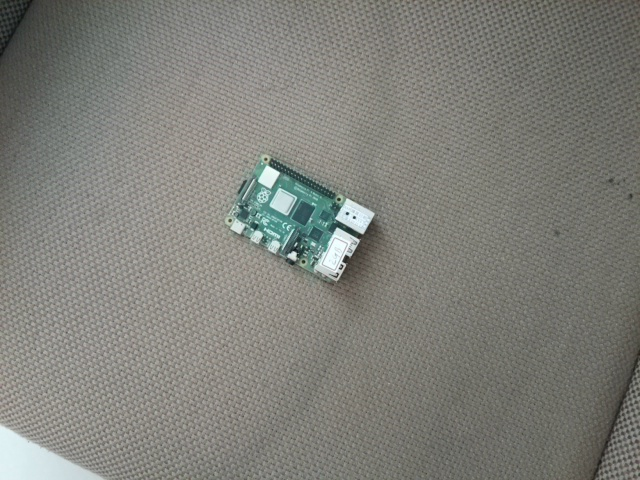Pi4: (220, 149, 380, 289)
